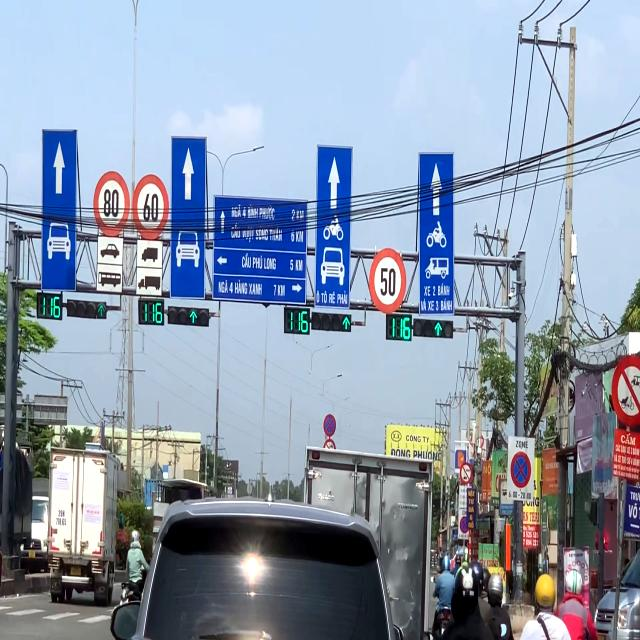P.127: (93, 170, 130, 238), (369, 248, 407, 314), (132, 173, 169, 240)
P.130: (511, 452, 532, 488), (324, 414, 336, 436), (460, 516, 470, 534)
